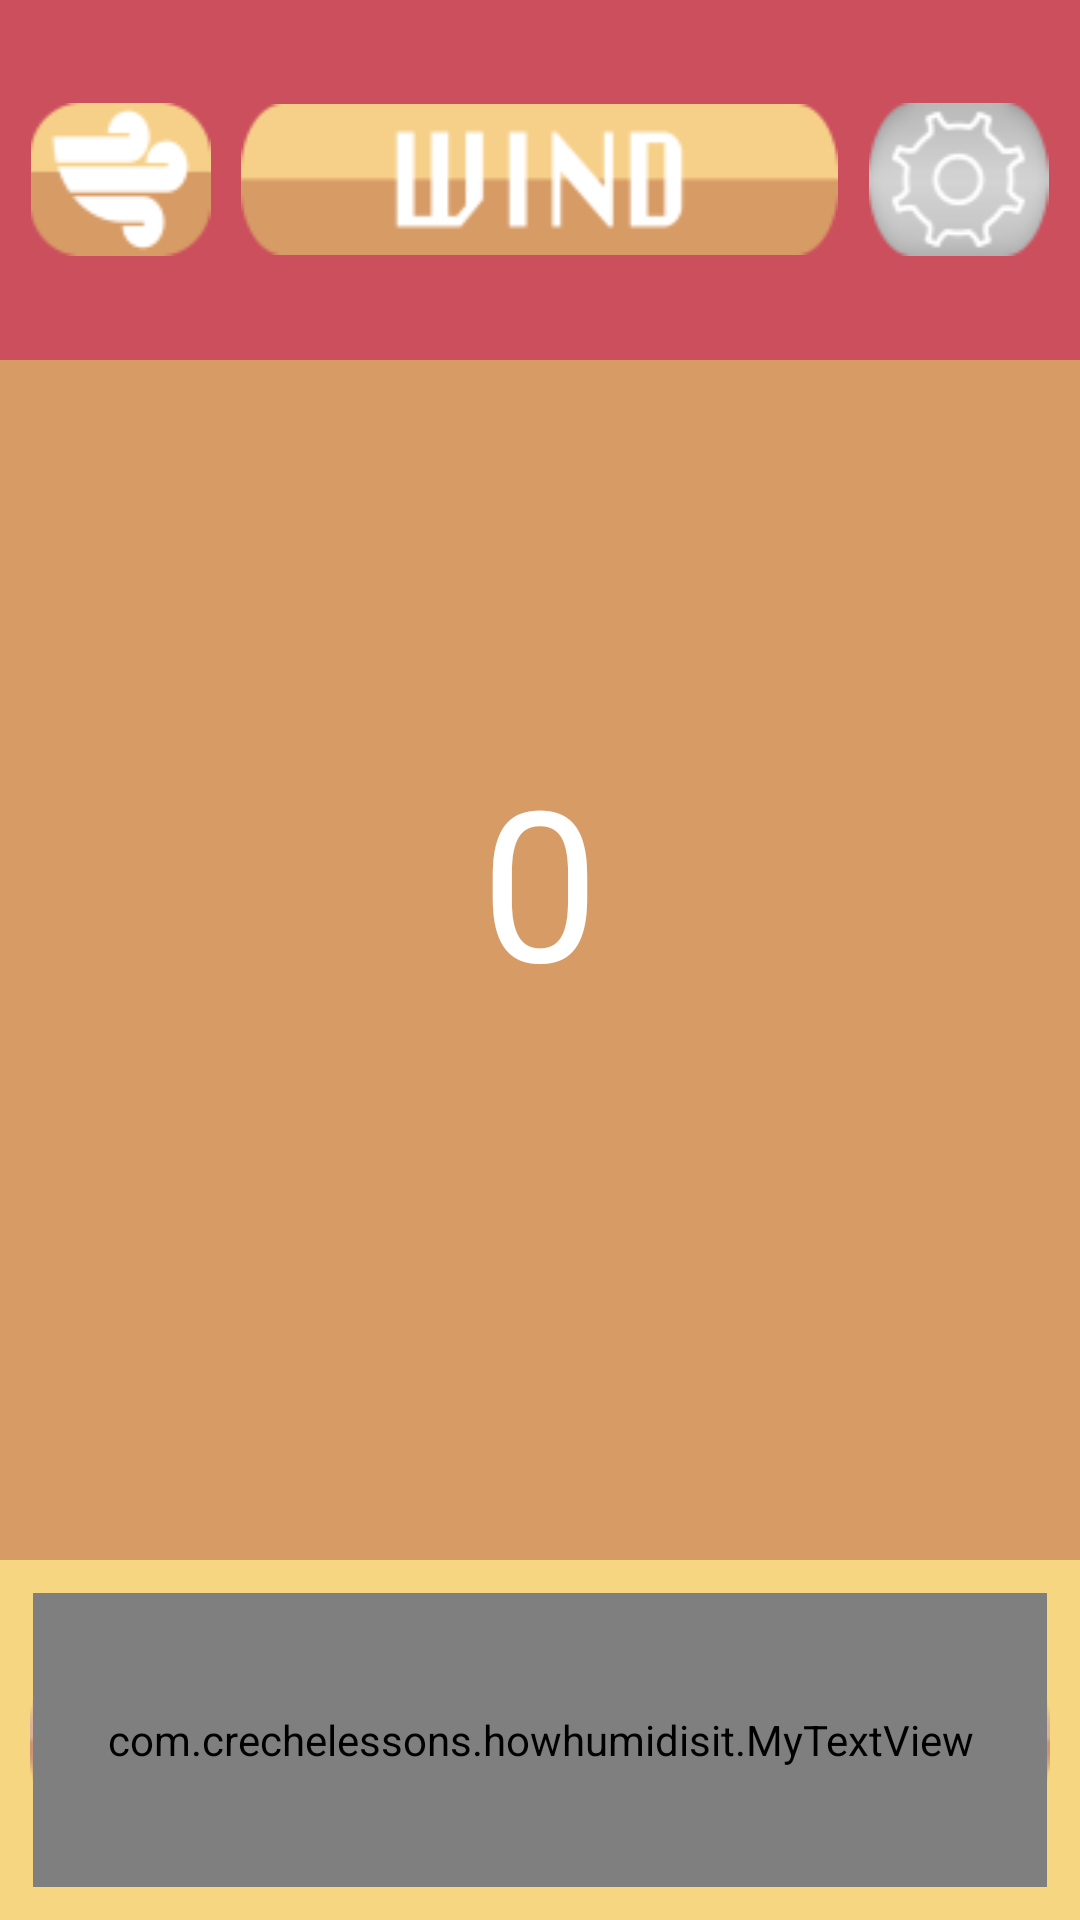

Icons on this 1080 × 1920 Android screen, each with the point to tap as (x,y):
go to settings: (959,179)
wind: (121,179)
